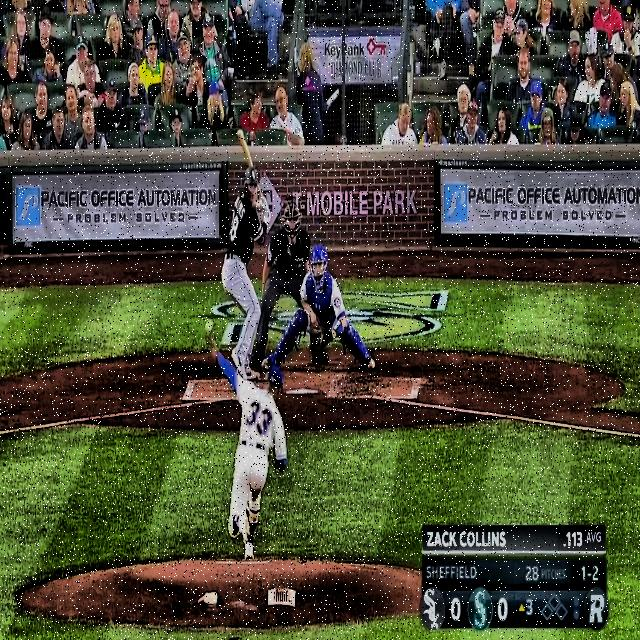baseball: (204, 318, 214, 334)
